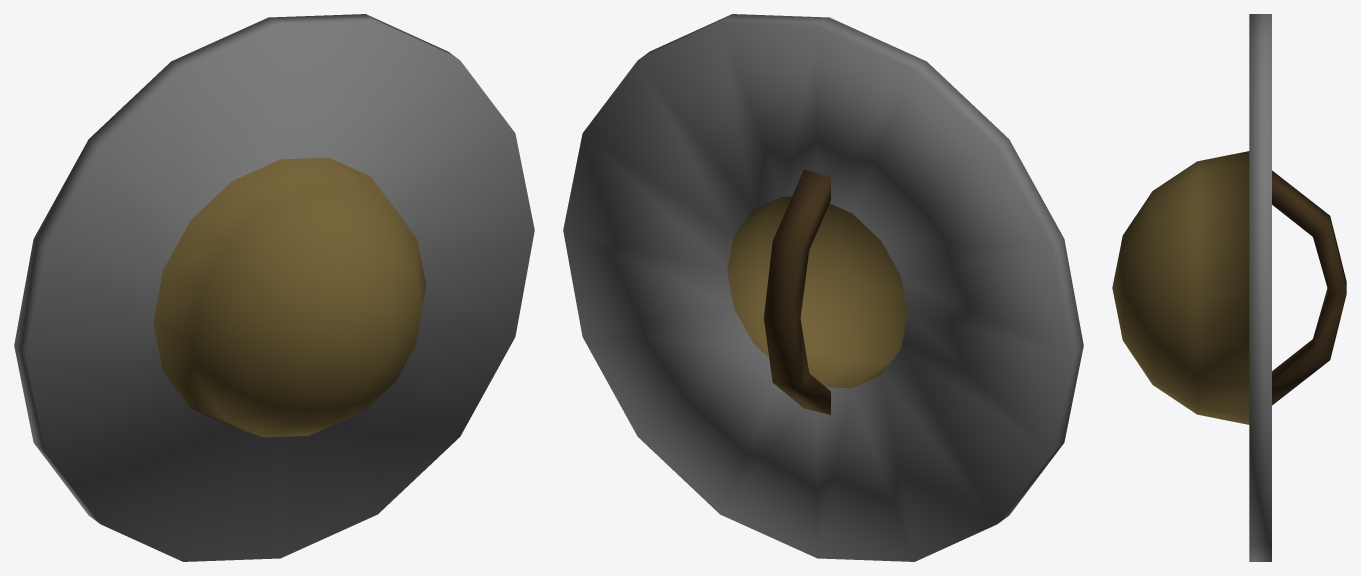
File: buckler.glb
3 views of the same model, side by side, from view 1: azimuth 30°, elevation 25°; view 2: azimuth 150°, elevation 25°; view 3: azimuth 270°, elevation 25° (orthographic). The views are drawn at different scales.
Parts seen in each view (by area): view 1: Buckler; view 2: Buckler; view 3: Buckler.
Boxes of the visible parts, left/top/right/bottom form: Buckler: left=14, top=14, right=534, bottom=561; Buckler: left=563, top=14, right=1083, bottom=561; Buckler: left=1112, top=14, right=1346, bottom=561.
Size of the model in its own units: 0.3578 by 0.3578 by 0.1529.
